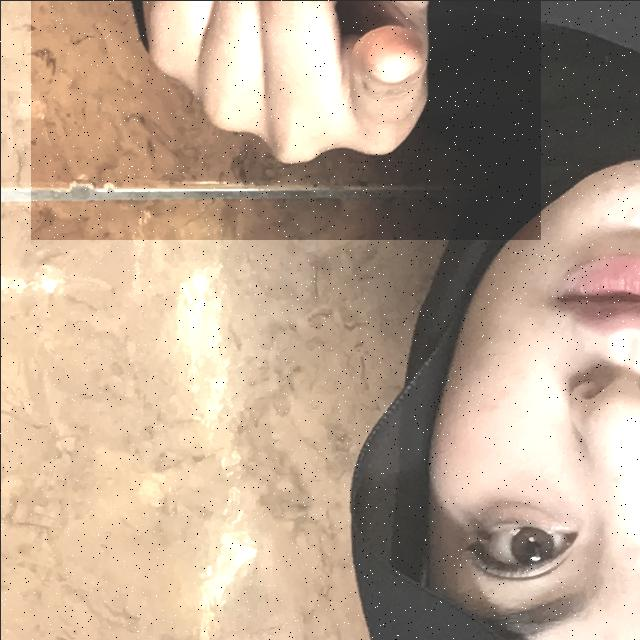kamu: (30, 0, 540, 239)
